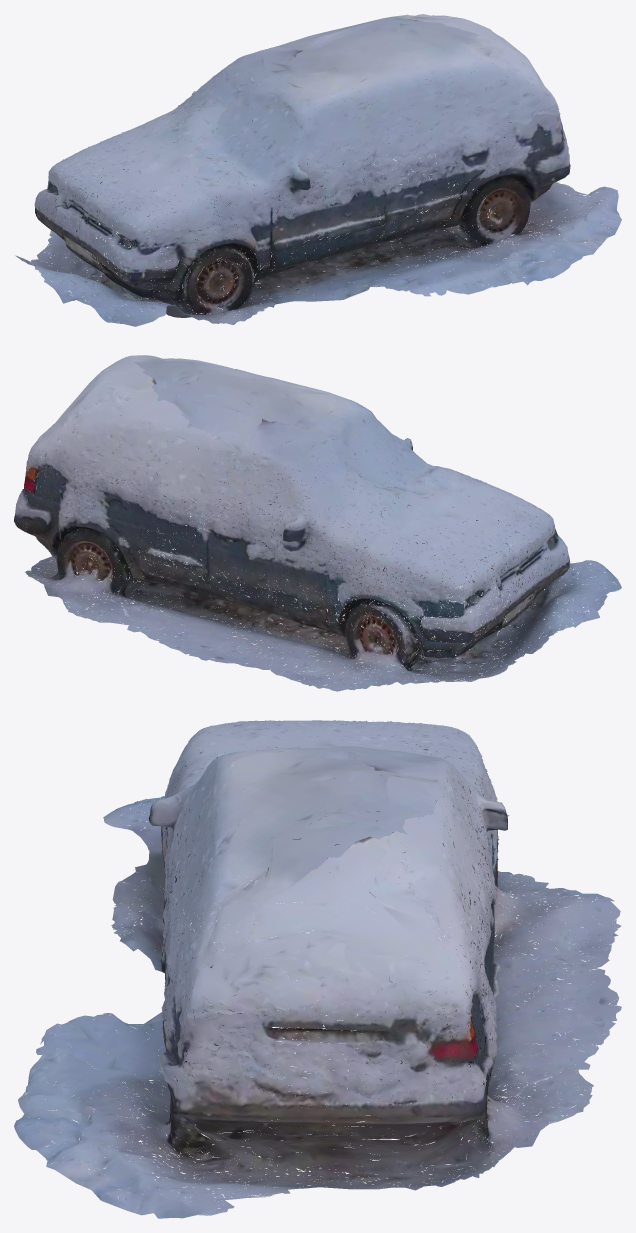
Rendered from car-c.glb.
The picture shows the model from 3 angles, top to bottom: view 1: azimuth 30°, elevation 25°; view 2: azimuth 150°, elevation 25°; view 3: azimuth 270°, elevation 25°; orthographic projection. The views are drawn at different scales.
Visible parts, largest first — view 1: Model_material0_0; view 2: Model_material0_0; view 3: Model_material0_0.
Part boxes in pixels (x1,y1,x2,y2): Model_material0_0: (15, 14, 621, 326); Model_material0_0: (14, 355, 621, 691); Model_material0_0: (14, 720, 621, 1218).
Bounding box in the file's own units: 5.04 × 1.75 × 3.19.
Materials: 1 (1 with a texture image).
